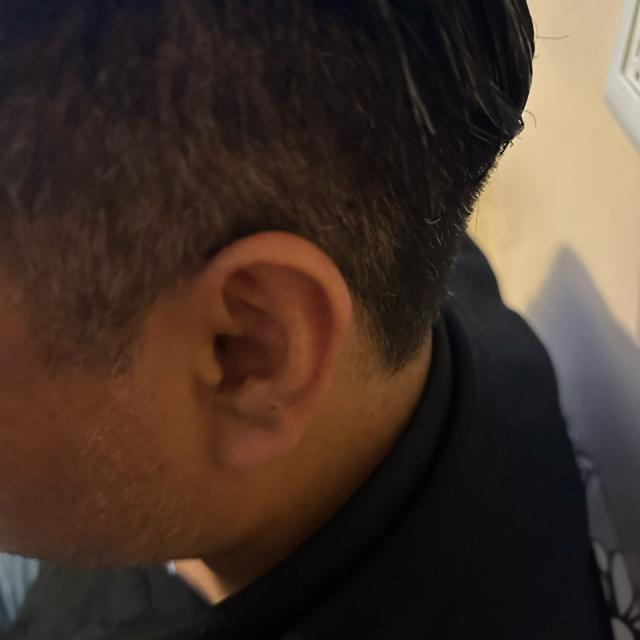ear: (181, 232, 354, 468)
